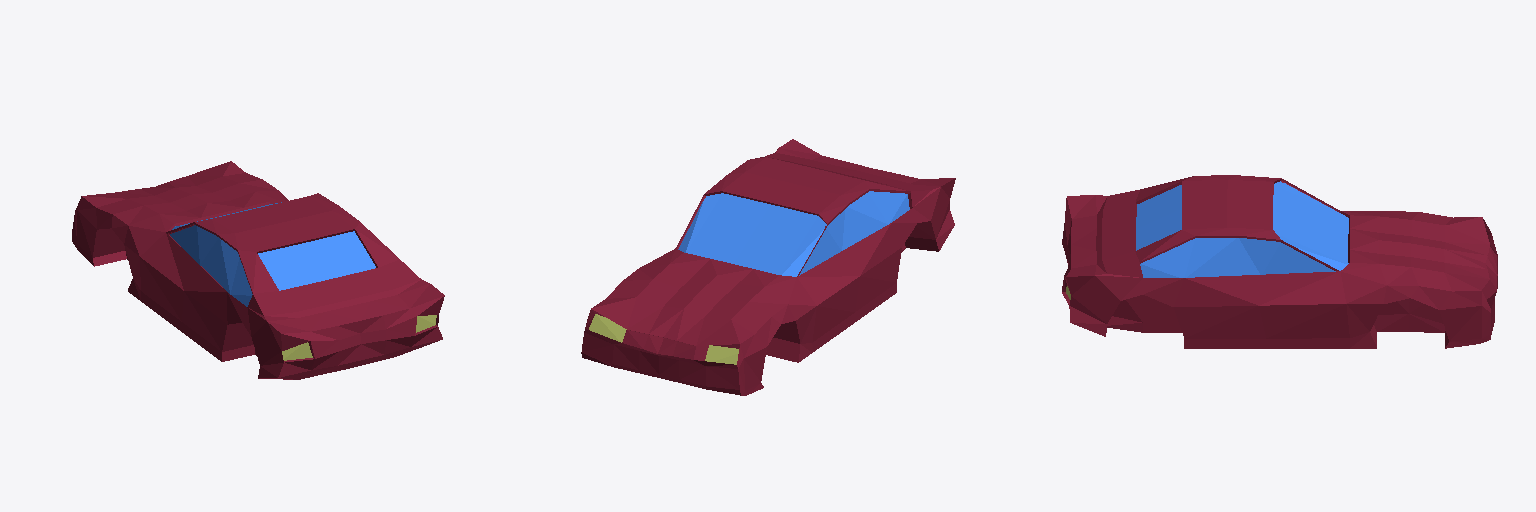
The model's file is car.obj.
The picture shows the model from 3 angles: view 1: azimuth 30°, elevation 25°; view 2: azimuth 150°, elevation 25°; view 3: azimuth 270°, elevation 25°; orthographic projection.
Visible parts, largest first — view 1: Macchina_Cube; view 2: Macchina_Cube; view 3: Macchina_Cube.
Part boxes in pixels (x1,y1,x2,y2): Macchina_Cube: (72,161,444,379); Macchina_Cube: (581,139,955,395); Macchina_Cube: (1062,175,1497,348).
Size of the model in its own units: 1.69 by 1.02 by 3.78.